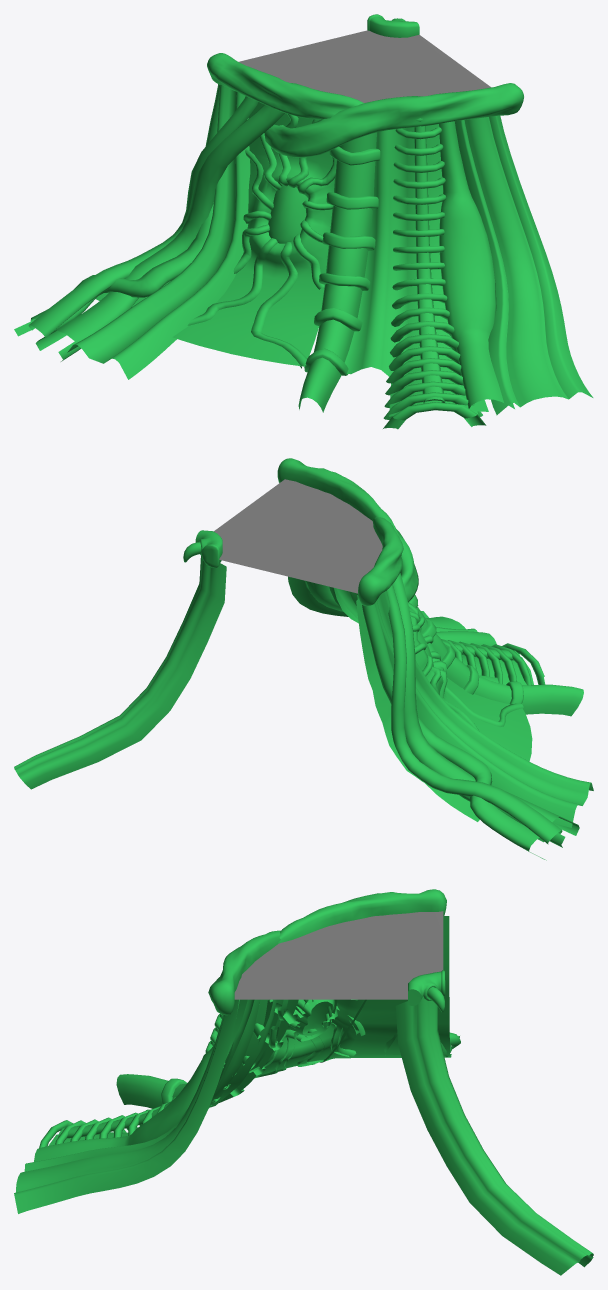
Rendered from Track_alien_04_R.fbx.
3 views of the same model, one above another, from view 1: azimuth 30°, elevation 25°; view 2: azimuth 150°, elevation 25°; view 3: azimuth 270°, elevation 25° (orthographic). The views are drawn at different scales.
Visible parts, largest first — view 1: Side_Rock_003, Road_003; view 2: Side_Rock_003, Road_003; view 3: Side_Rock_003, Road_003.
Boxes of the visible parts, x1=… form: Side_Rock_003: x1=14, y1=14, x2=593, y2=429; Road_003: x1=239, y1=30, x2=490, y2=102; Side_Rock_003: x1=14, y1=458, x2=593, y2=860; Road_003: x1=214, y1=479, x2=382, y2=593; Side_Rock_003: x1=14, y1=889, x2=593, y2=1275; Road_003: x1=234, y1=911, x2=443, y2=999.
Size of what is drawn, in the model's own units: 6950 by 7002 by 3334.
